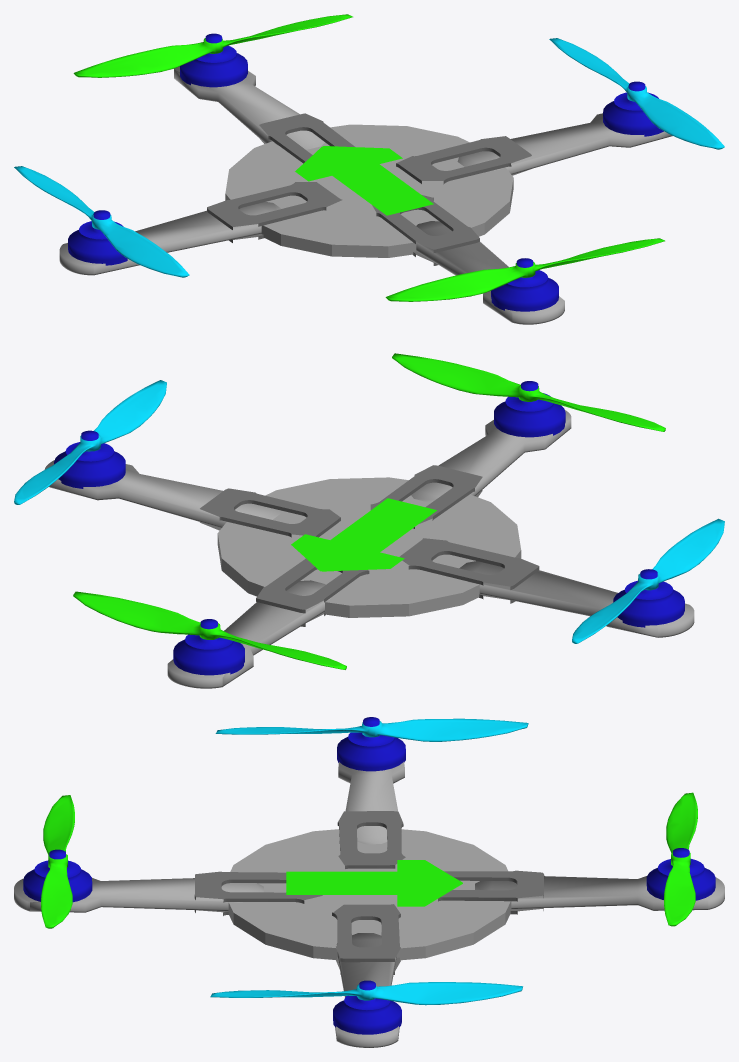
Rendered from quad_plus.gltf.
The picture shows the model from 3 angles, top to bottom: view 1: azimuth 30°, elevation 25°; view 2: azimuth 150°, elevation 25°; view 3: azimuth 270°, elevation 25°; orthographic projection. The views are drawn at different scales.
Parts seen in each view (by area): view 1: quad+; view 2: quad+; view 3: quad+.
Part boxes in pixels (<box>): quad+: <box>14,14,724,324</box>; quad+: <box>14,353,724,688</box>; quad+: <box>14,717,724,1047</box>.
Size of the model in its own units: 0.9792 by 0.0747 by 0.9792.
